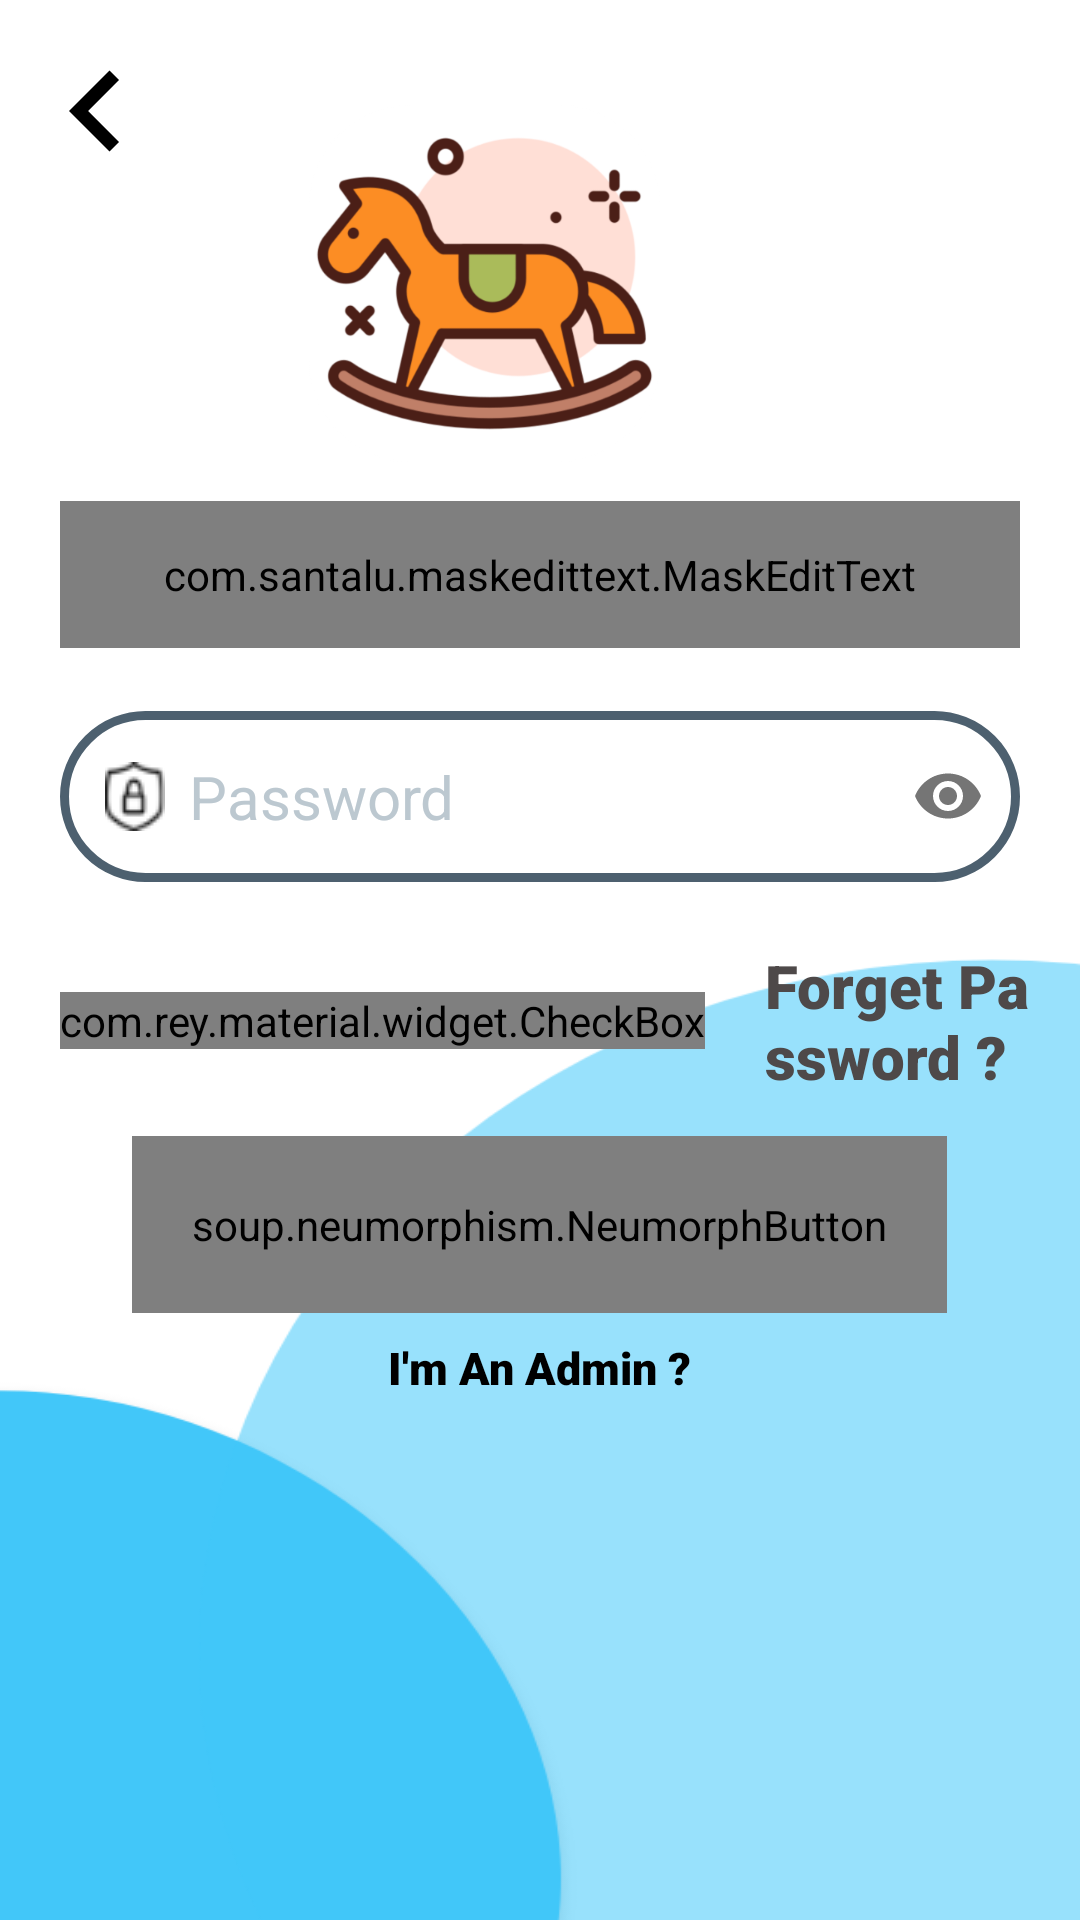

Icons on this 1080x1920 Android screen, each with its box as [x1,y1,x2,y2]:
keyboard arrow left: [69,70,119,152]
